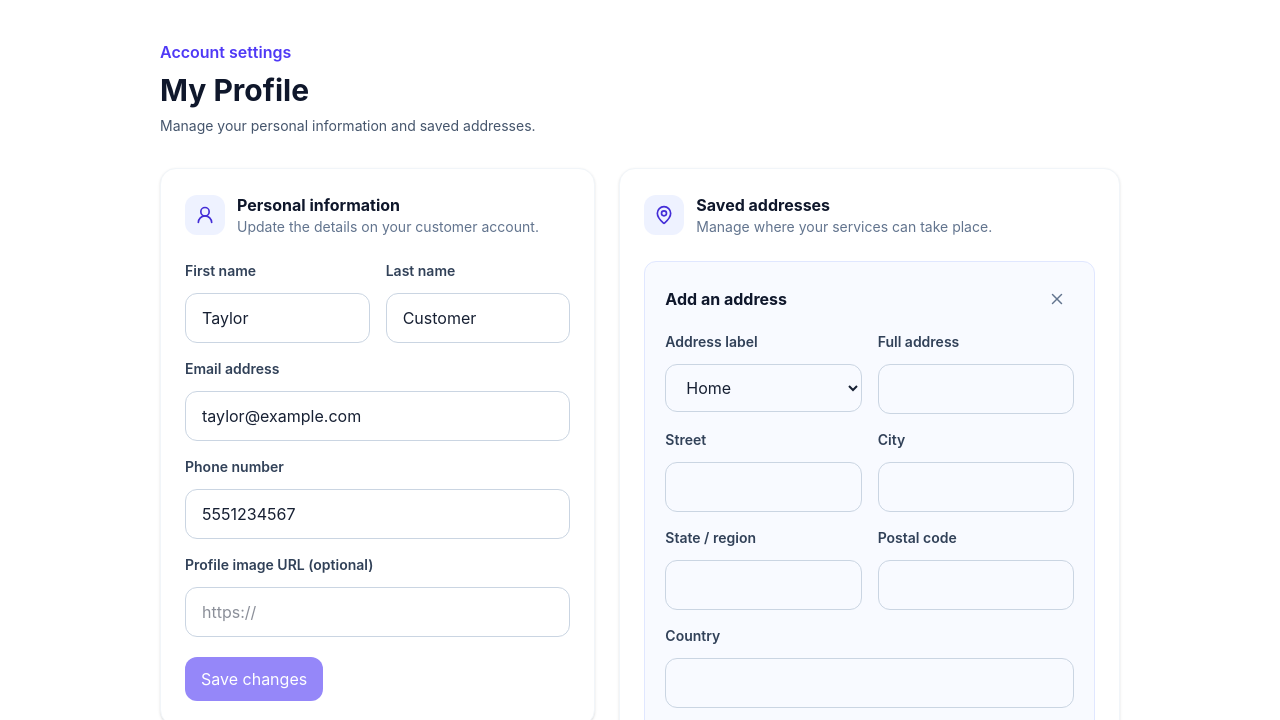
CustomerProfilePage › adds an address using the backend address fields
Earlier steps of the test are not shown.
Select "Home" in the dropdown labelled "Address label" at {"x": 763, "y": 388}, box [665,364,862,412]
Type "10 Main Street" into the field labelled "Full address" at {"x": 976, "y": 389}, box [878,364,1074,414]
Type "Main Street" into the field labelled "Street" at {"x": 763, "y": 487}, box [665,462,862,512]
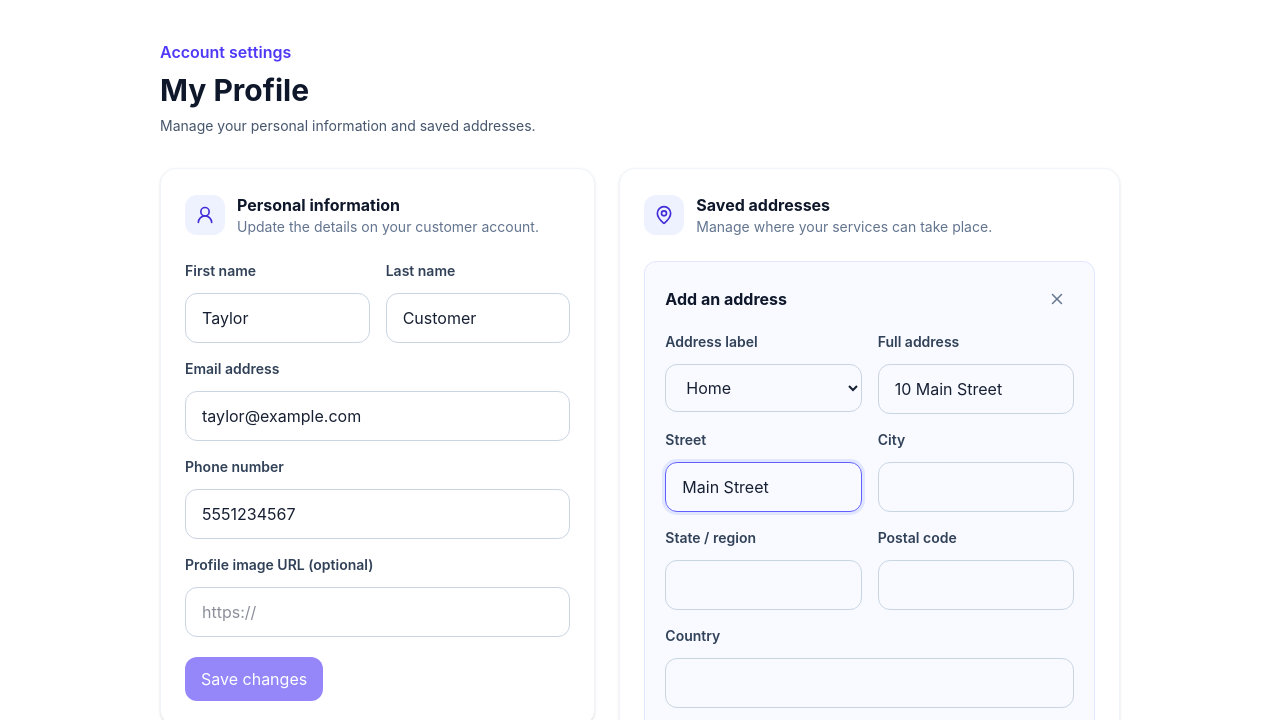
Type "Springfield" into the field labelled "City" at {"x": 976, "y": 487}, box [878,462,1074,512]
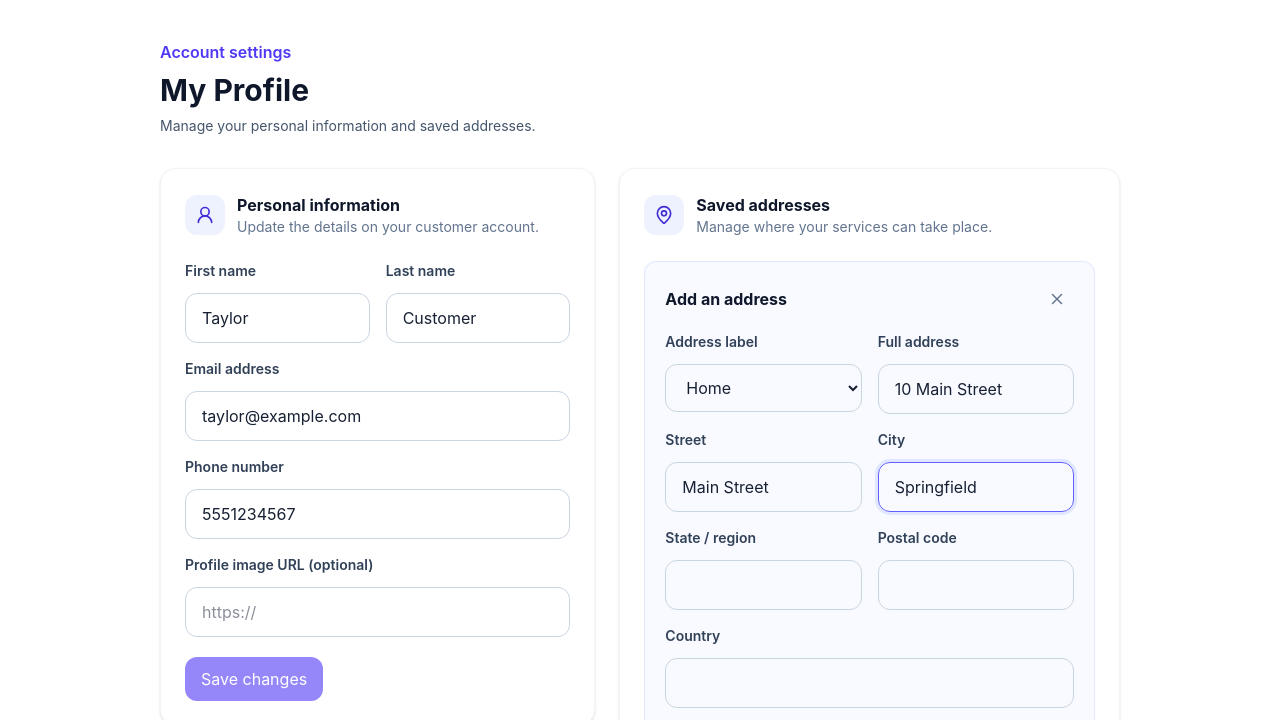
Type "CA" into the field labelled "State / region" at {"x": 763, "y": 585}, box [665,560,862,610]
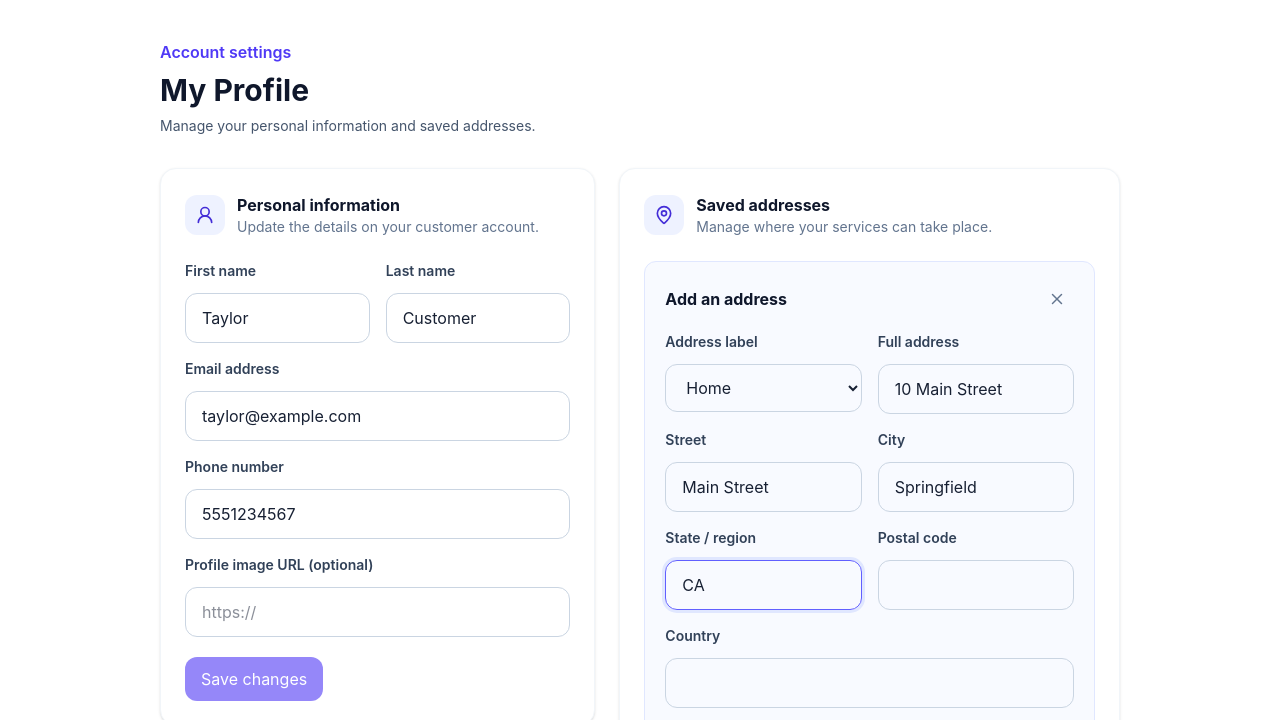
Type "90210" into the field labelled "Postal code" at {"x": 976, "y": 585}, box [878,560,1074,610]
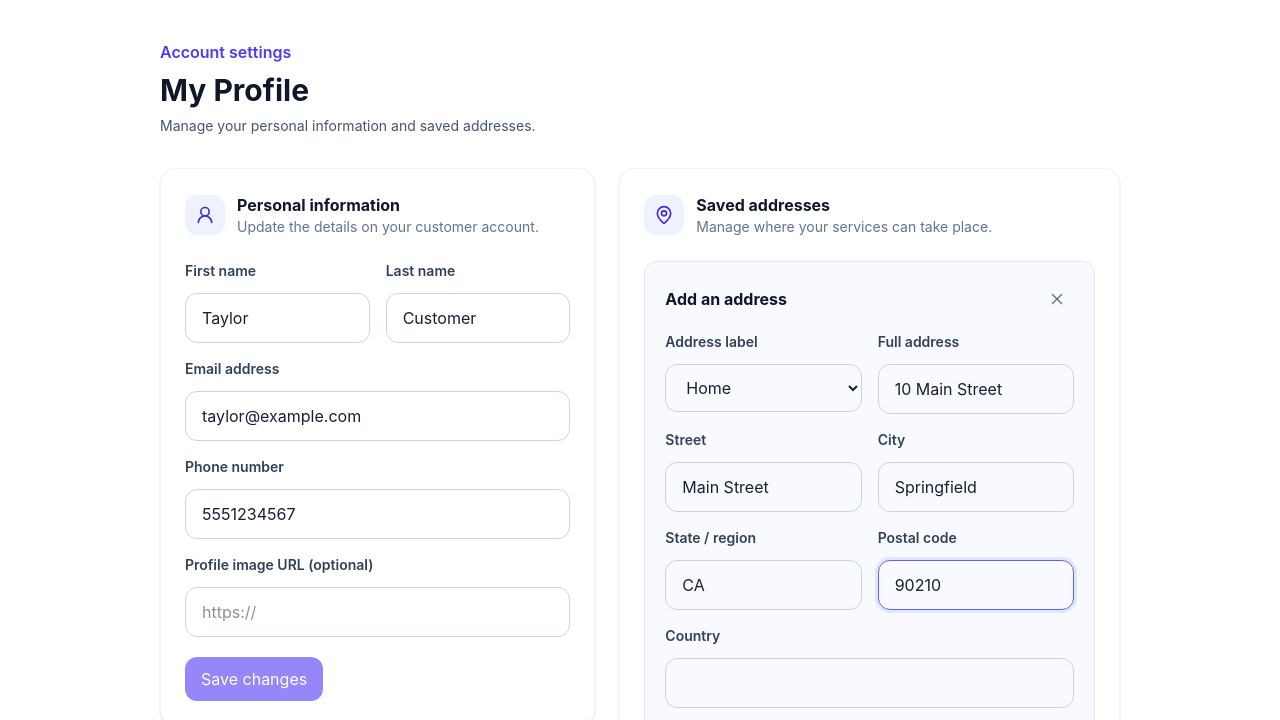
Type "USA" into the field labelled "Country" at {"x": 870, "y": 683}, box [665,658,1074,708]
(page scrolled)
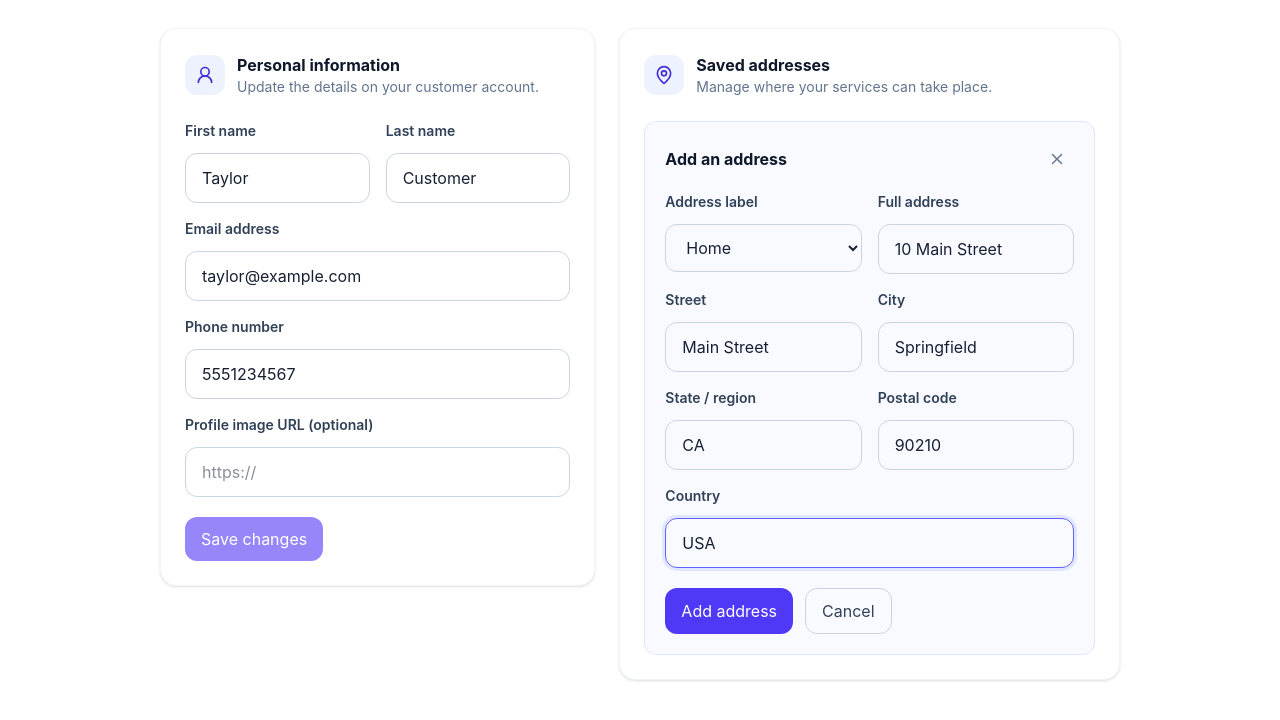
Click the button "Add address" at {"x": 729, "y": 611}, box [665,588,793,634]
(page scrolled)
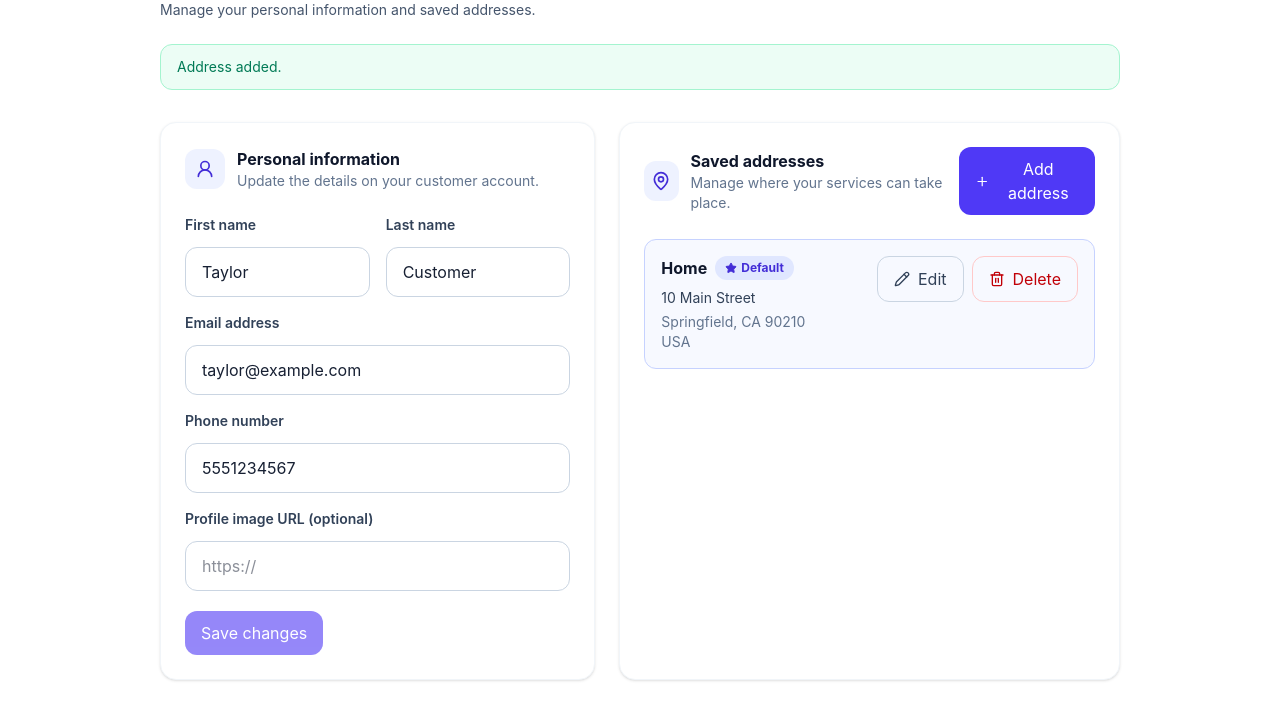
expect the text "10 Main Street" is shown: met, box [661,289,755,306]
